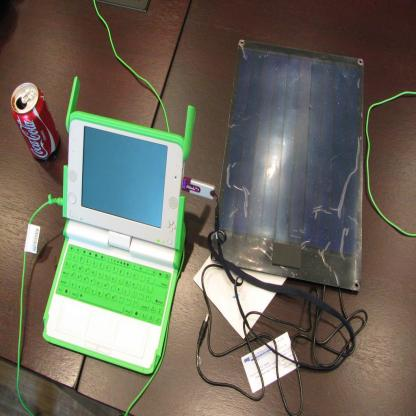board: (44, 76, 198, 375), (12, 81, 61, 162)
